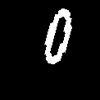chain: (45, 9, 71, 63)
